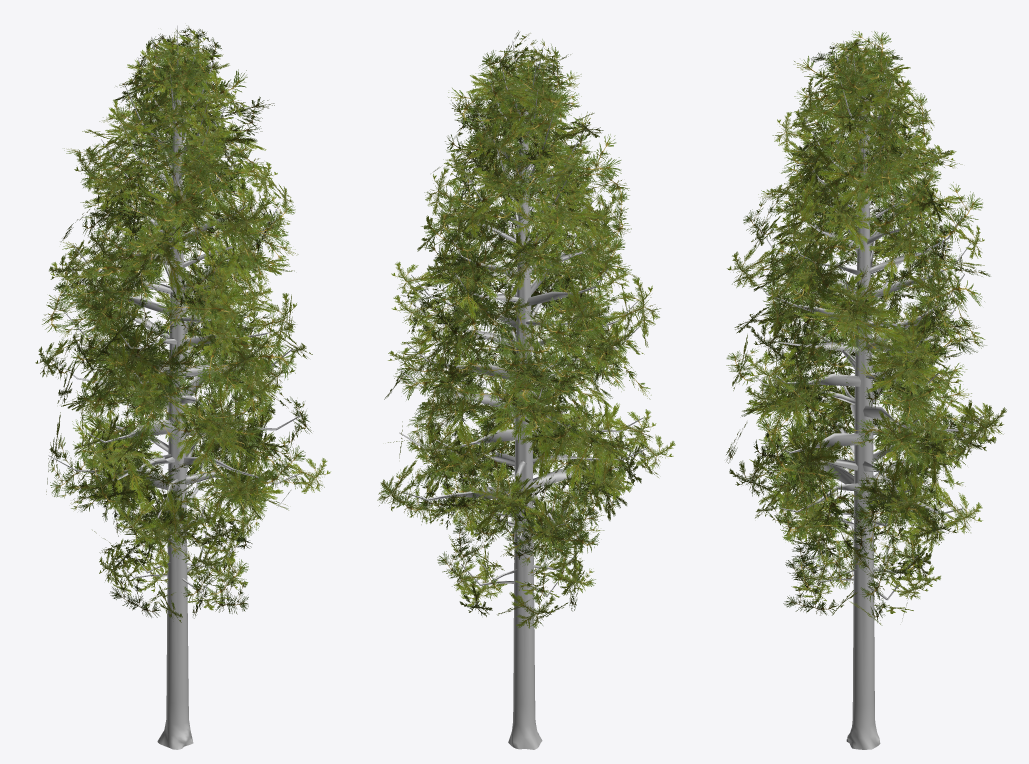
File: European_Larch_Model_0.obj
3 renders of one model, left to right at view 1: azimuth 30°, elevation 25°; view 2: azimuth 150°, elevation 25°; view 3: azimuth 270°, elevation 25°, orthographic.
Parts seen in each view (by area): view 1: Foliage__leafcard, Bark; view 2: Foliage__leafcard, Bark; view 3: Foliage__leafcard, Bark.
Boxes of the visible parts, x1,y1,x2,y2 form: Foliage__leafcard: (35,25,330,622); Bark: (48,25,301,749); Foliage__leafcard: (377,30,675,628); Bark: (399,41,647,749); Foliage__leafcard: (726,30,1006,625); Bark: (741,37,983,749).
Size of the model in its own units: 11.31 by 30 by 11.36.
